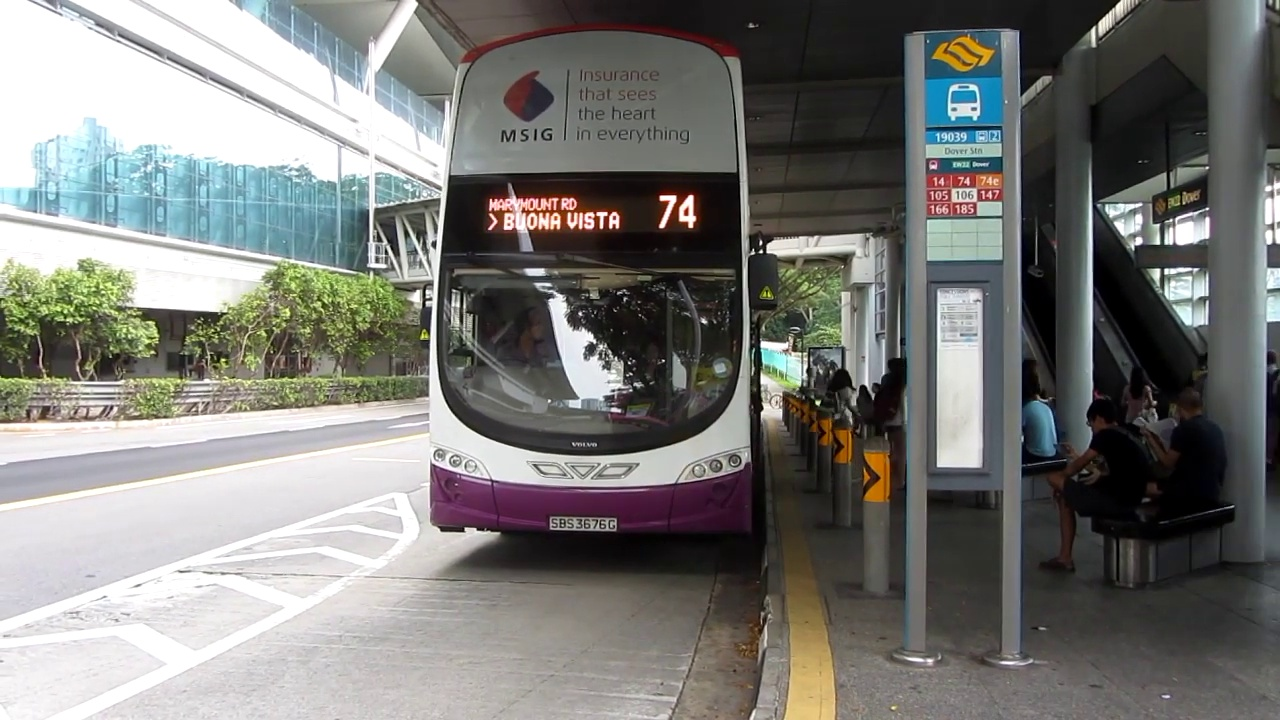bus panel: (483, 192, 701, 233)
